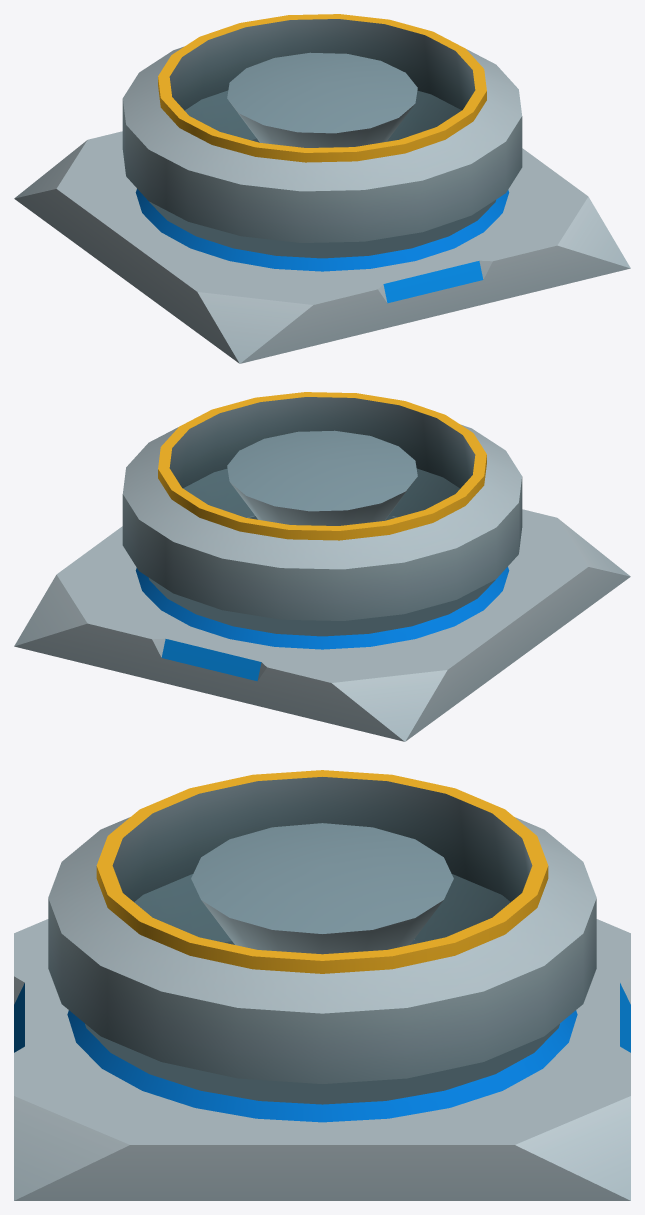
Rendered from Ventilation_003.fbx.
3 views of the same model, one above another, from view 1: azimuth 30°, elevation 25°; view 2: azimuth 150°, elevation 25°; view 3: azimuth 270°, elevation 25° (orthographic). The views are drawn at different scales.
Parts seen in each view (by area): view 1: Ventilation_003; view 2: Ventilation_003; view 3: Ventilation_003.
Boxes of the visible parts, x1,y1,x2,y2 form: Ventilation_003: (14, 14, 630, 363); Ventilation_003: (14, 392, 630, 741); Ventilation_003: (14, 770, 630, 1200).
Bounding box in the file's own units: 100 × 100 × 36.66.
